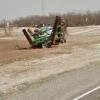Tractor: (20, 15, 87, 60)
